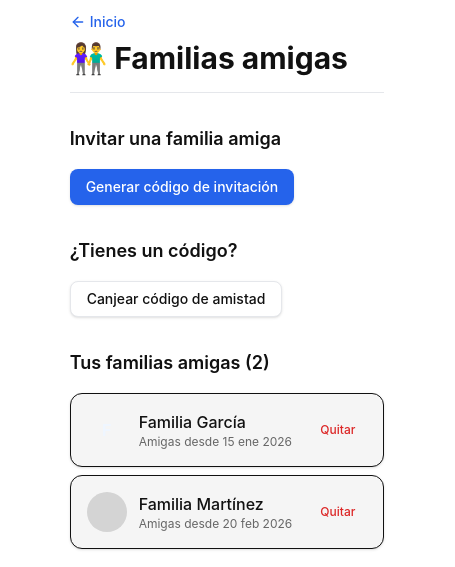
FriendsView › pide confirmación antes de quitar una amistad
Step 1. Click the button "Quitar" next to "15 ene 2026" → point(338, 430), box [308,414,367,446]
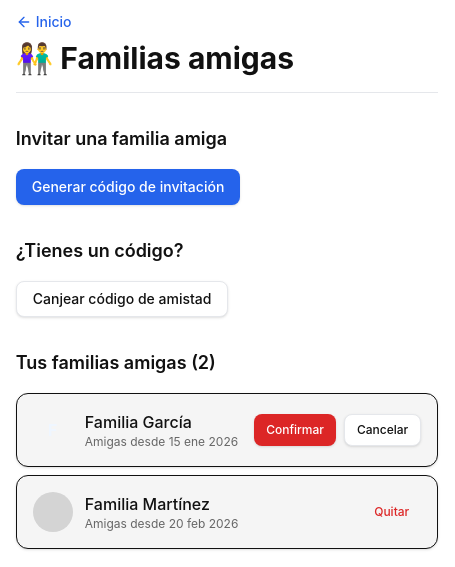
Expected: the button "Confirmar" is shown, [254,414,336,446]
